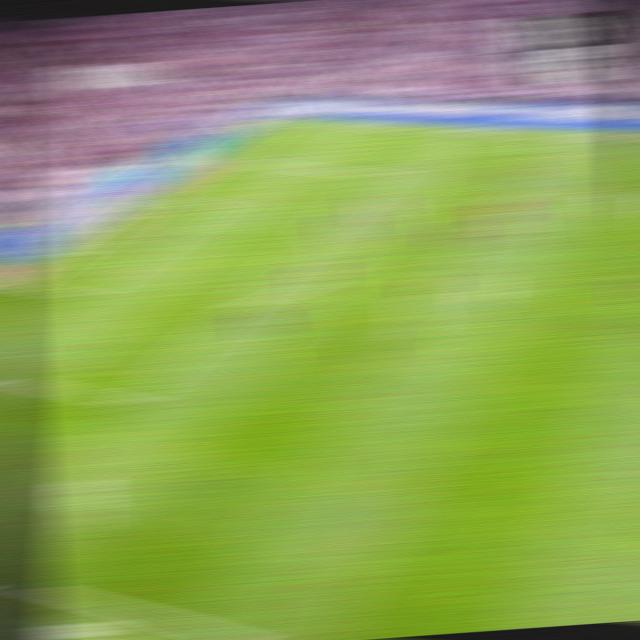bigarea_bottom_inner: (113, 386, 151, 416)
bigarea_top_inner: (365, 166, 398, 180)
bigarea_top_outter: (205, 152, 239, 164)
bottom_arc_area_intersection: (222, 294, 257, 312)
corner: (266, 114, 300, 125)
smallarea_top_inner: (196, 198, 229, 210)
top_arc_area_intersection: (310, 217, 341, 231)
